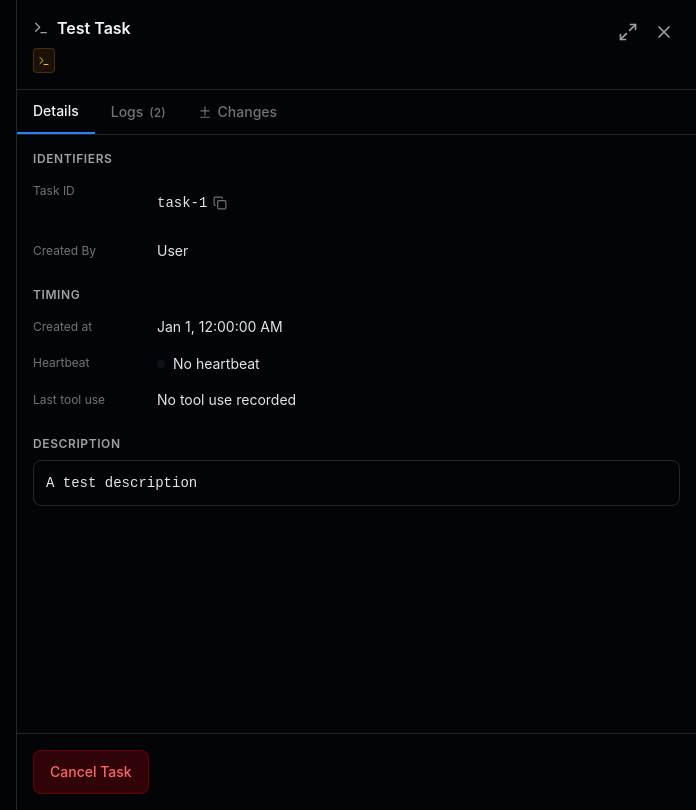
Test case: TaskDetailDrawer › clicking Logs tab shows log lines
Click the button "Logs(2)": click(138, 112) top-left (95, 90), bottom-right (182, 134)
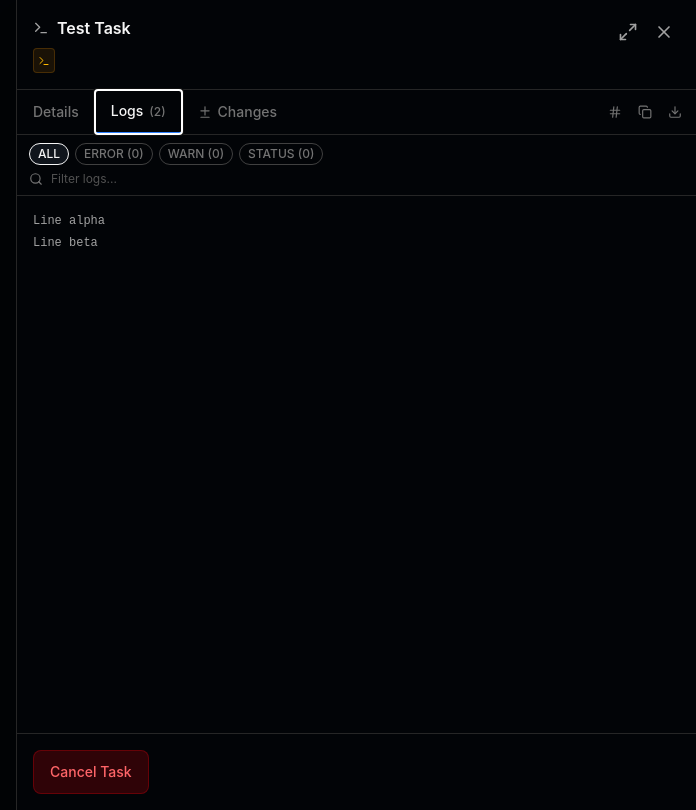
Expected: the text "Line alpha" is shown, top-left (33, 214), bottom-right (105, 228)
Expected: the text "Line beta" is shown, top-left (33, 236), bottom-right (98, 250)
